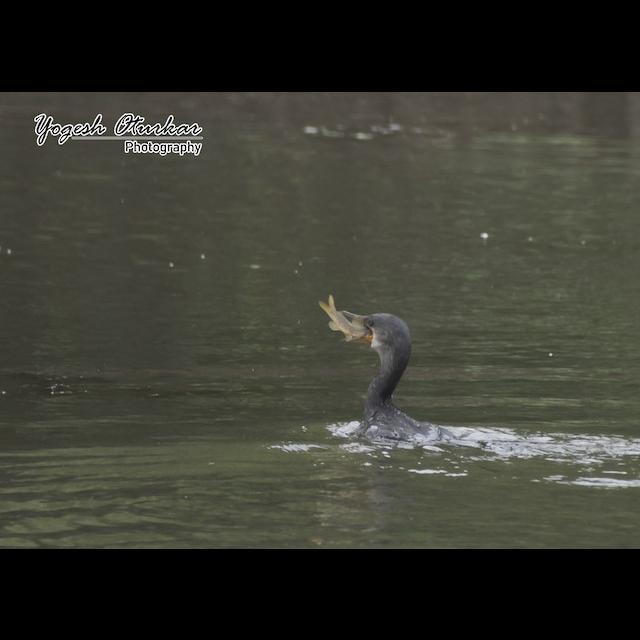cormorant: (304, 290, 454, 458)
